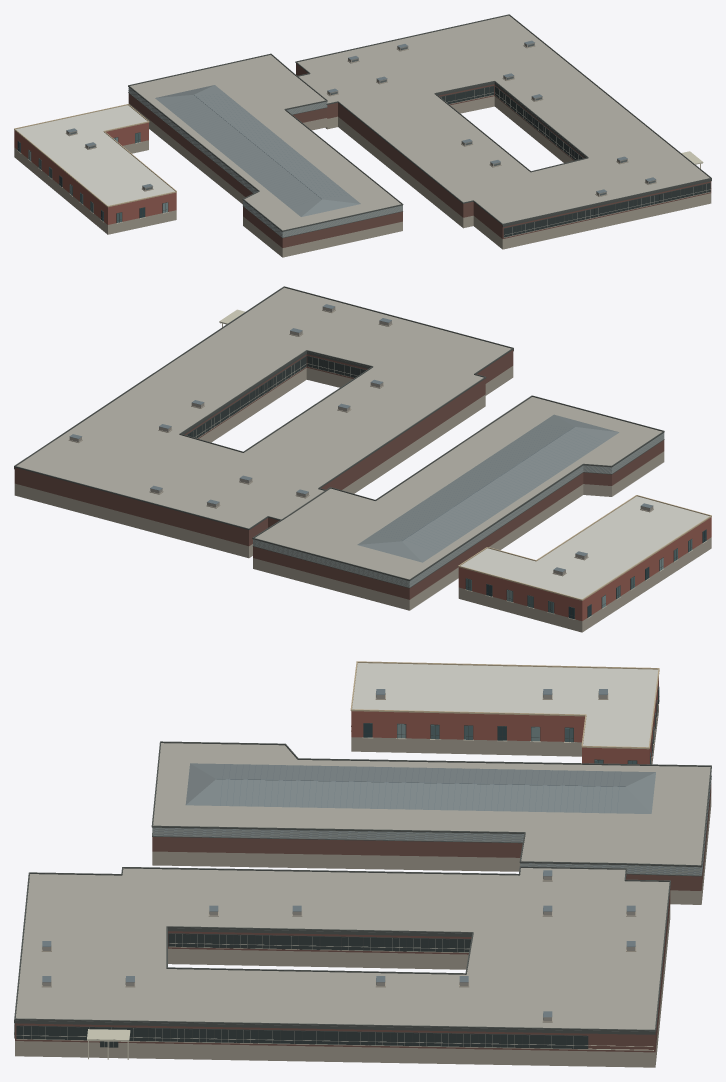
Rendered from bramlett-elementary.glb.
3 renders of one model, top to bottom at view 1: azimuth 30°, elevation 25°; view 2: azimuth 150°, elevation 25°; view 3: azimuth 270°, elevation 25°, orthographic. The views are drawn at different scales.
Parts seen in each view (by area): view 1: 317684186 | Roof, 317684187 | Roof, 1337596599 | Roof, 317684186 | Shell and foundation, 317684186 | Facades, 317684186 | bram-entry 1, 1337596599 | Shell and foundation, 317684187 | Shell and foundation, 1337596599 | Facades; view 2: 317684186 | Roof, 317684186 | Shell and foundation, 317684187 | Roof, 1337596599 | Roof, 317684186 | Facades, 1337596599 | Shell and foundation, 317684187 | Shell and foundation, 317684186 | bram-entry 1, 1337596599 | Facades; view 3: 317684186 | Roof, 317684187 | Roof, 1337596599 | Roof, 317684186 | bram-entry 1, 317684186 | Shell and foundation, 317684186 | Facades, 1337596599 | Shell and foundation, 317684187 | Shell and foundation, 1337596599 | Facades.
Boxes of the visible parts, <box> form: 317684186 | Roof: <box>14,15,711,257</box>; 317684187 | Roof: <box>155,85,360,216</box>; 1337596599 | Roof: <box>16,105,174,205</box>; 317684186 | Shell and foundation: <box>128,63,711,247</box>; 317684186 | Facades: <box>128,14,711,237</box>; 317684186 | bram-entry 1: <box>17,85,710,237</box>; 1337596599 | Shell and foundation: <box>14,122,176,224</box>; 317684187 | Shell and foundation: <box>128,87,402,237</box>; 1337596599 | Facades: <box>14,104,176,222</box>; 317684186 | Roof: <box>14,287,711,632</box>; 317684186 | Shell and foundation: <box>14,350,664,599</box>; 317684187 | Roof: <box>357,414,619,562</box>; 1337596599 | Roof: <box>460,496,709,599</box>; 317684186 | Facades: <box>14,286,664,588</box>; 1337596599 | Shell and foundation: <box>458,517,711,620</box>; 317684187 | Shell and foundation: <box>253,433,664,587</box>; 317684186 | bram-entry 1: <box>186,309,706,619</box>; 1337596599 | Facades: <box>458,495,711,618</box>; 317684186 | Roof: <box>15,689,711,1067</box>; 317684187 | Roof: <box>185,763,655,813</box>; 1337596599 | Roof: <box>352,663,658,747</box>; 317684186 | bram-entry 1: <box>14,686,659,1059</box>; 317684186 | Shell and foundation: <box>15,784,711,1052</box>; 317684186 | Facades: <box>14,741,711,1034</box>; 1337596599 | Shell and foundation: <box>351,677,658,764</box>; 317684187 | Shell and foundation: <box>152,827,701,875</box>; 1337596599 | Facades: <box>350,661,659,764</box>.
Size of the model in its own units: 123 by 7.86 by 100.
